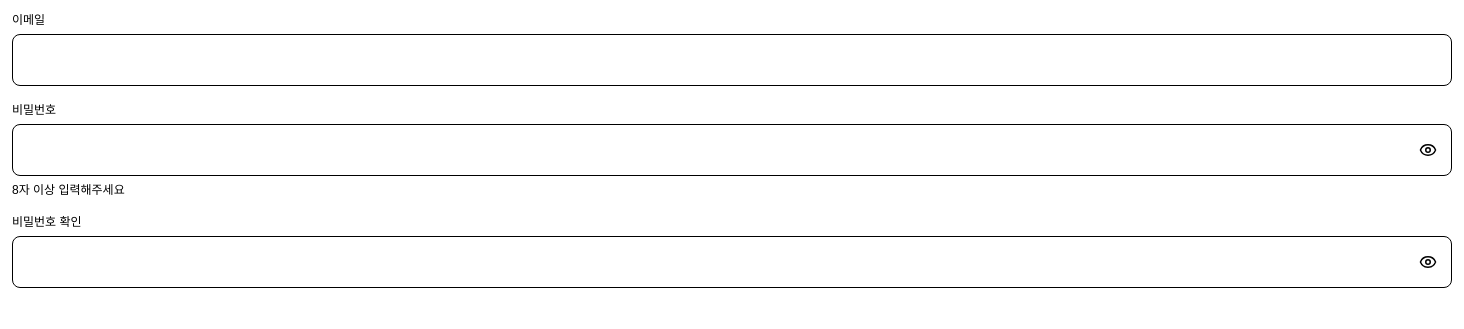
Test: SignupForm › should show 보통 when password has length and some variety
The width and height of the screenshot is (1464, 329).
Type "password1" into the password field labelled "비밀번호".
click(732, 150); type("password1")  # box [12,124,1452,176]
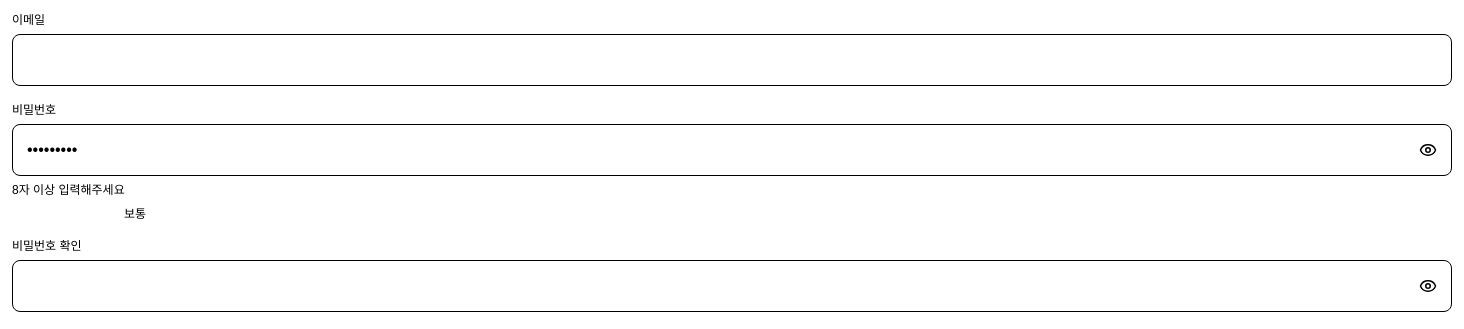
Result: the text "보통" is shown at [124,206,146,222]
